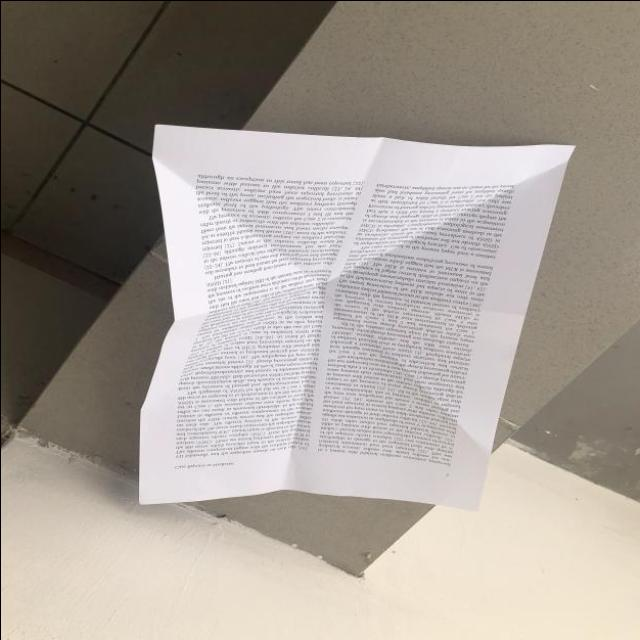kertas: (135, 124, 572, 523)
